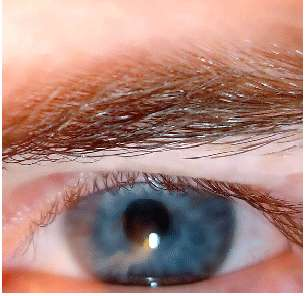iris: (63, 166, 235, 288)
pupil: (122, 198, 171, 244)
